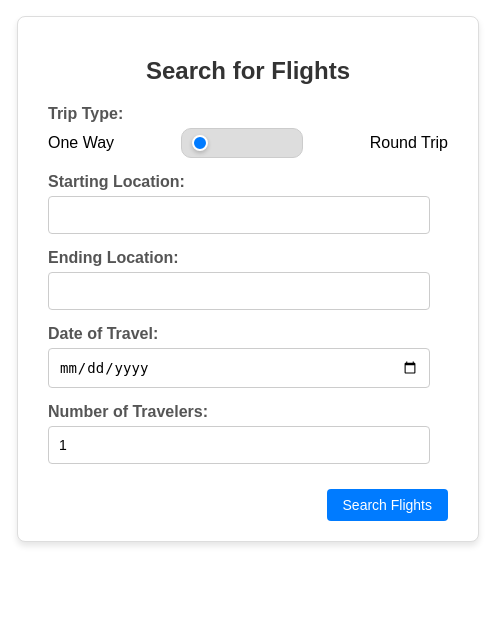
it: FlightSearchForm › toggles return date field when trip type changes
Expected: the field labelled "Return Date:" is not shown
# Change to round-trip
Set the slider to "1". click: point(295, 143)
box: x1=181 y1=128 x2=303 y2=158
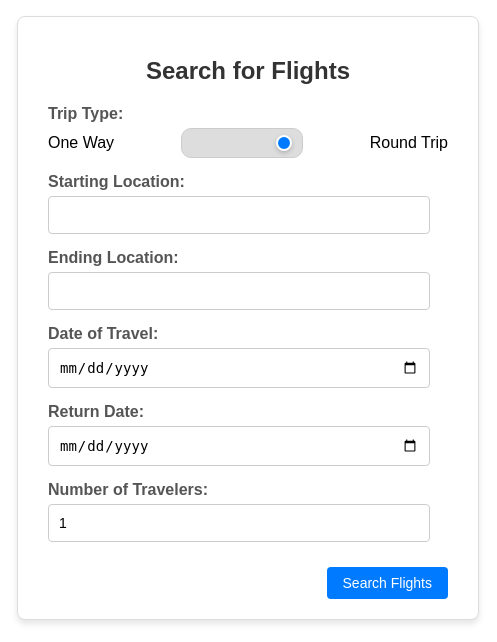
Now the date field labelled "Return Date:" is shown, box x1=48 y1=426 x2=430 y2=466
